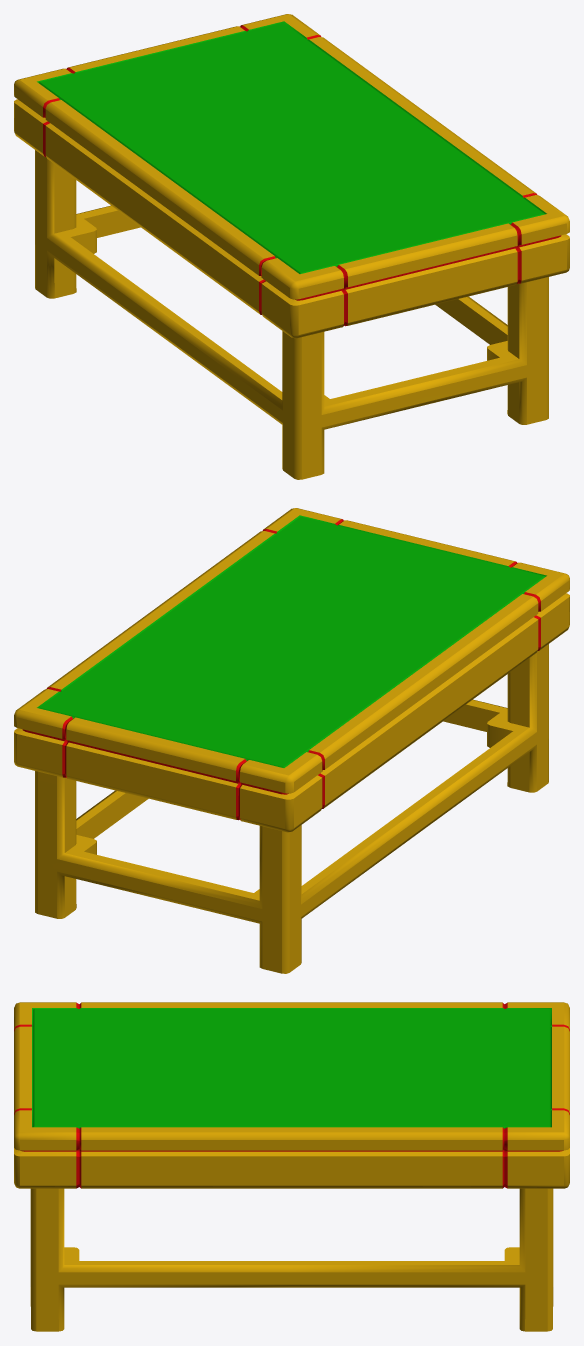
The model's file is SM0125_Lobby_Table_01.fbx.
The picture shows the model from 3 angles, top to bottom: view 1: azimuth 30°, elevation 25°; view 2: azimuth 150°, elevation 25°; view 3: azimuth 270°, elevation 25°; orthographic projection.
Parts seen in each view (by area): view 1: SM0125_Lobby_Table_01; view 2: SM0125_Lobby_Table_01; view 3: SM0125_Lobby_Table_01.
Part boxes in pixels (x1,y1,x2,y2): SM0125_Lobby_Table_01: (14, 14, 569, 479); SM0125_Lobby_Table_01: (14, 508, 569, 973); SM0125_Lobby_Table_01: (14, 1002, 569, 1331).
Bounding box in the file's own units: 376 × 656 × 264.
